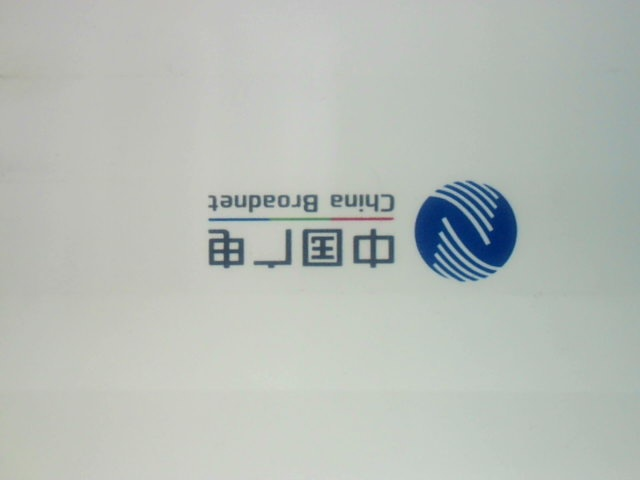AW_ChinaBroadNet: (202, 173, 524, 296)
